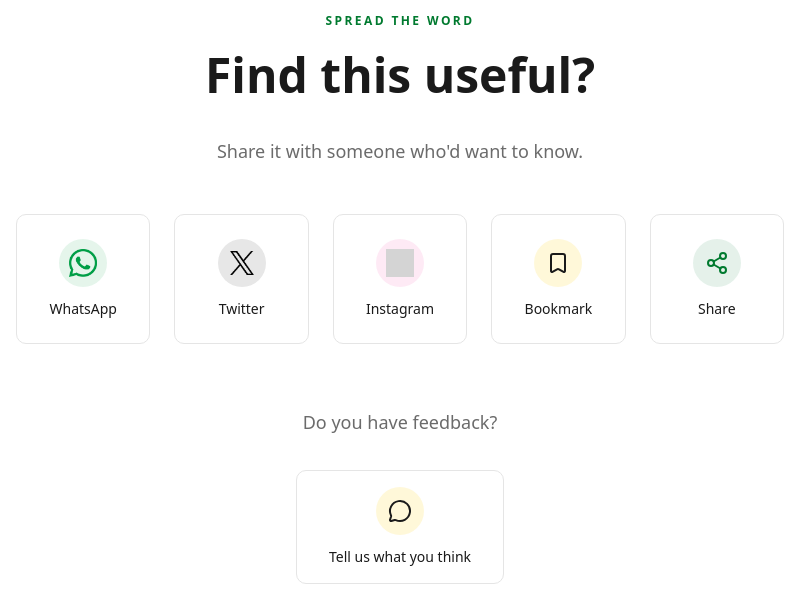
Test: ShareSection › should show "URL Copied!" confirmation after copying URL
# user clicks the share button
What coordinates should you click on to do the following:
click the button "Share"
I would click on:
 (717, 279)
Its box is [650,214,784,344].
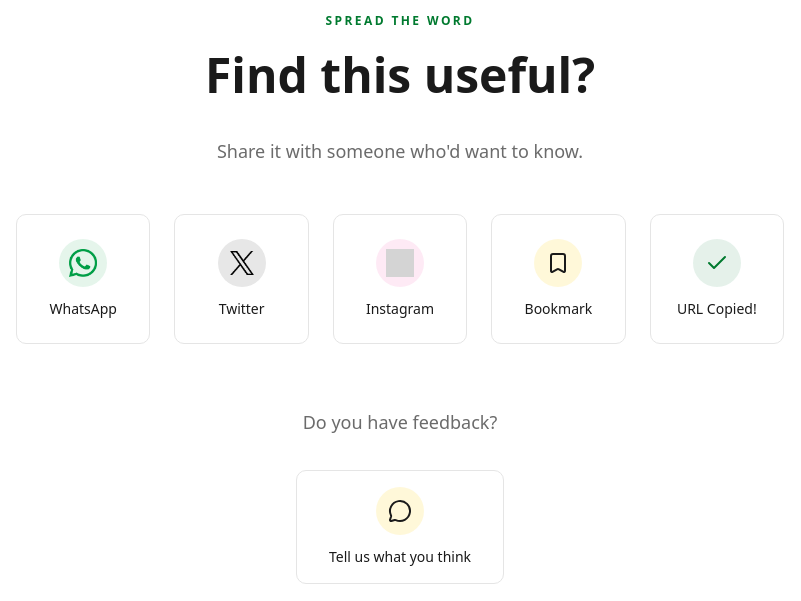
Now the text "URL Copied!" is shown, box [677,299,757,319]
